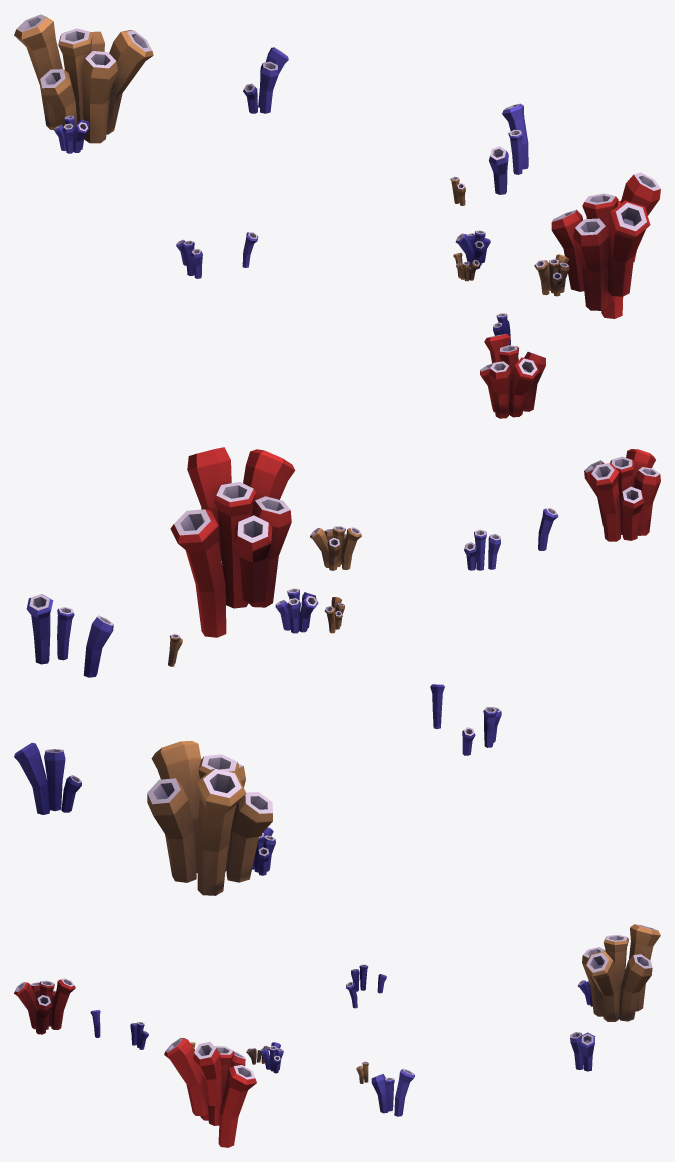
Rendered from Plant_01.FBX.
The picture shows the model from 3 angles, top to bottom: view 1: azimuth 30°, elevation 25°; view 2: azimuth 150°, elevation 25°; view 3: azimuth 270°, elevation 25°; orthographic projection. The views are drawn at different scales.
Visible parts, largest first — view 1: Plant_01; view 2: Plant_01; view 3: Plant_01.
Boxes of the visible parts, left/top/right/bottom form: Plant_01: left=14, top=14, right=660, bottom=418; Plant_01: left=14, top=447, right=660, bottom=895; Plant_01: left=14, top=924, right=660, bottom=1147.
Bounding box in the file's own units: 13.7 × 5.66 × 28.38.
